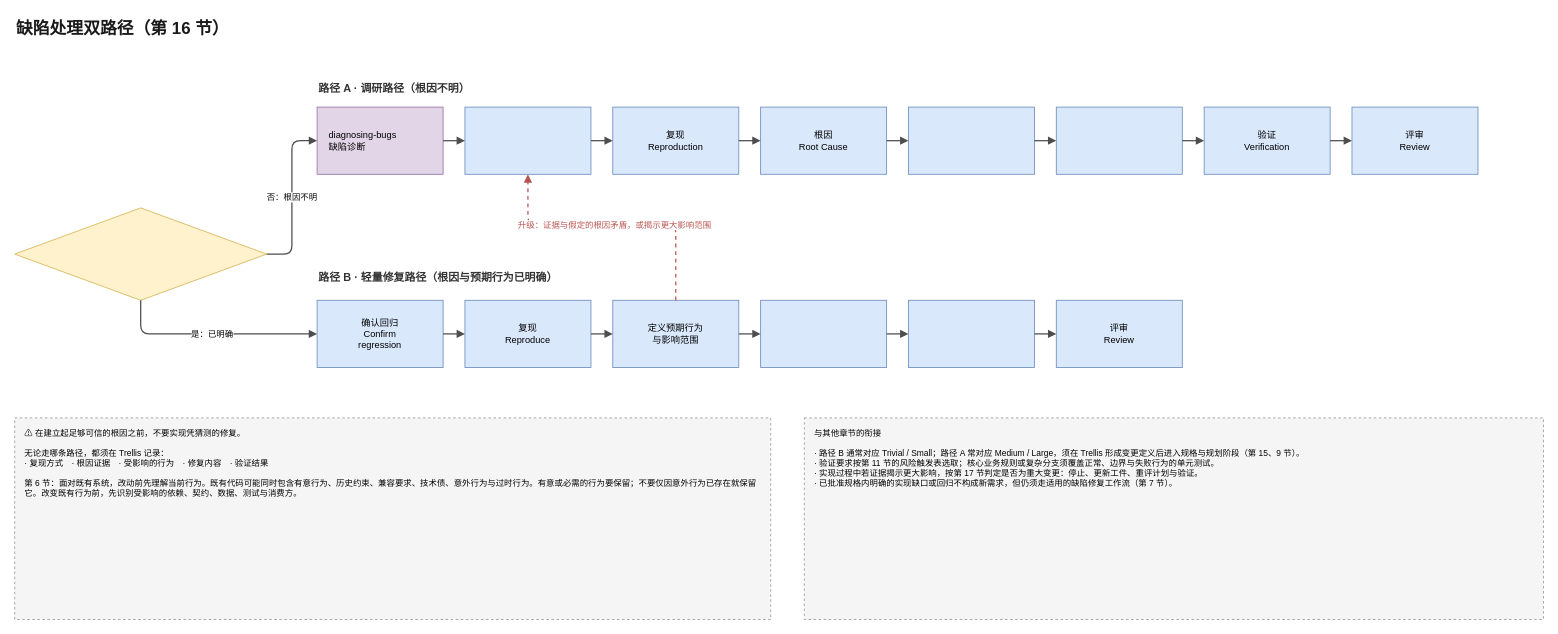
Some shapes in this 1558 by 634 pixel diagram are drawn without their labels. The box of each missing label's shape, as (x1, y1, x2, y2) in pixels:
Trellis 变更定义: (908, 106, 1034, 174)
修复 Fix: (760, 299, 887, 368)
回归验证 Regression Verification: (908, 299, 1034, 368)
实现 Implementation: (1055, 106, 1182, 174)
根因与预期行为 是否已明确且可信？: (14, 207, 267, 300)
证据 Evidence: (464, 106, 591, 174)
